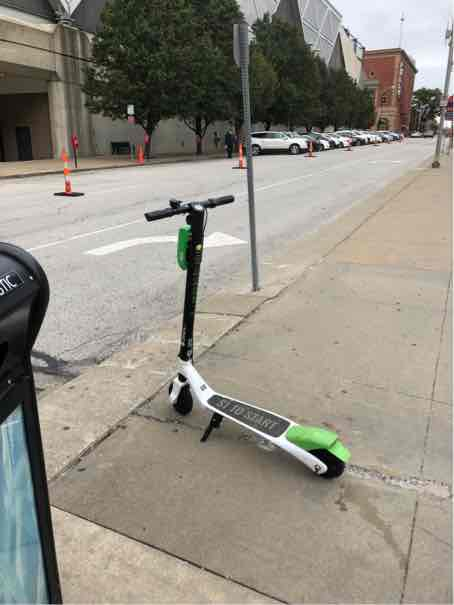scooter: (131, 191, 350, 492)
